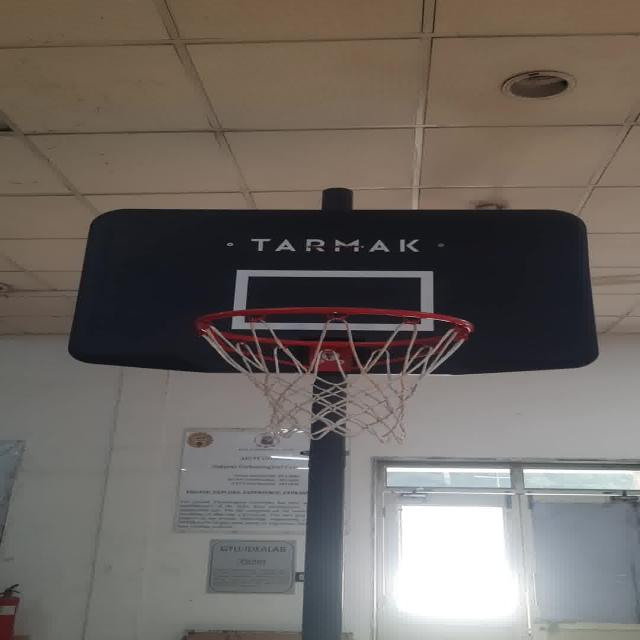objects: (192, 307, 470, 442), (237, 272, 428, 328)
